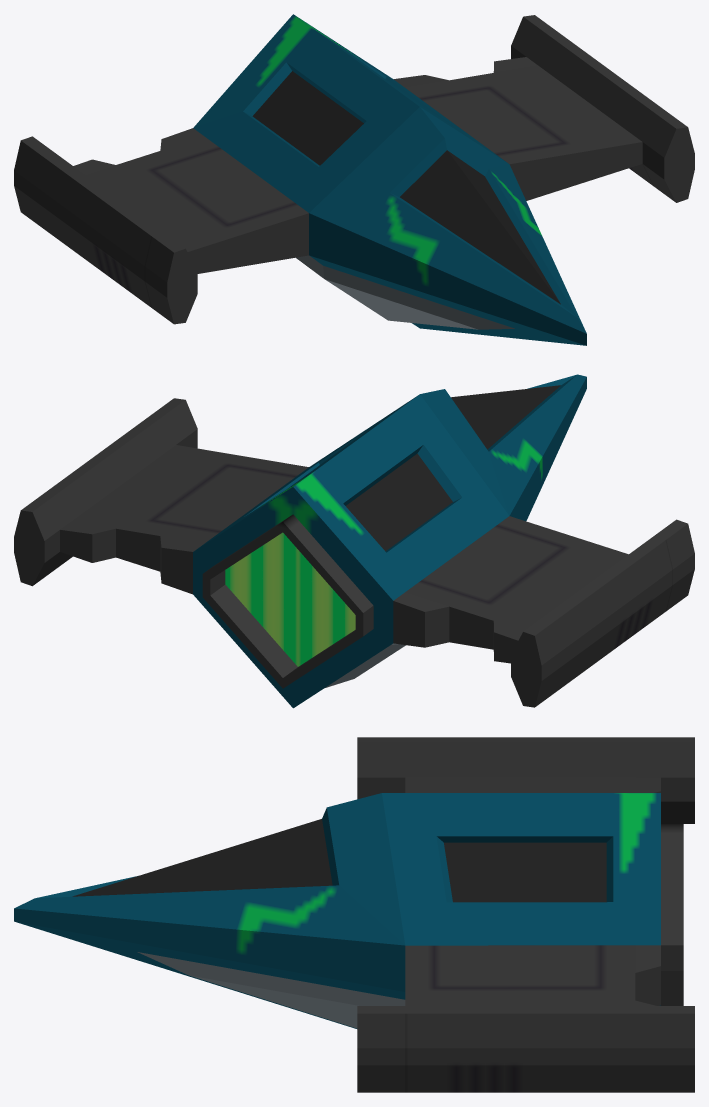
The model's file is Ship02.fbx.
3 renders of one model, top to bottom at view 1: azimuth 30°, elevation 25°; view 2: azimuth 150°, elevation 25°; view 3: azimuth 270°, elevation 25°, orthographic. The views are drawn at different scales.
Parts seen in each view (by area): view 1: Ship02; view 2: Ship02; view 3: Ship02.
Boxes of the visible parts, bbox=[...] form: Ship02: bbox=[14, 14, 694, 345]; Ship02: bbox=[14, 374, 694, 708]; Ship02: bbox=[14, 737, 694, 1092].
Bounding box in the file's own units: 498 × 200 × 506.
1 material, 1 textured.
